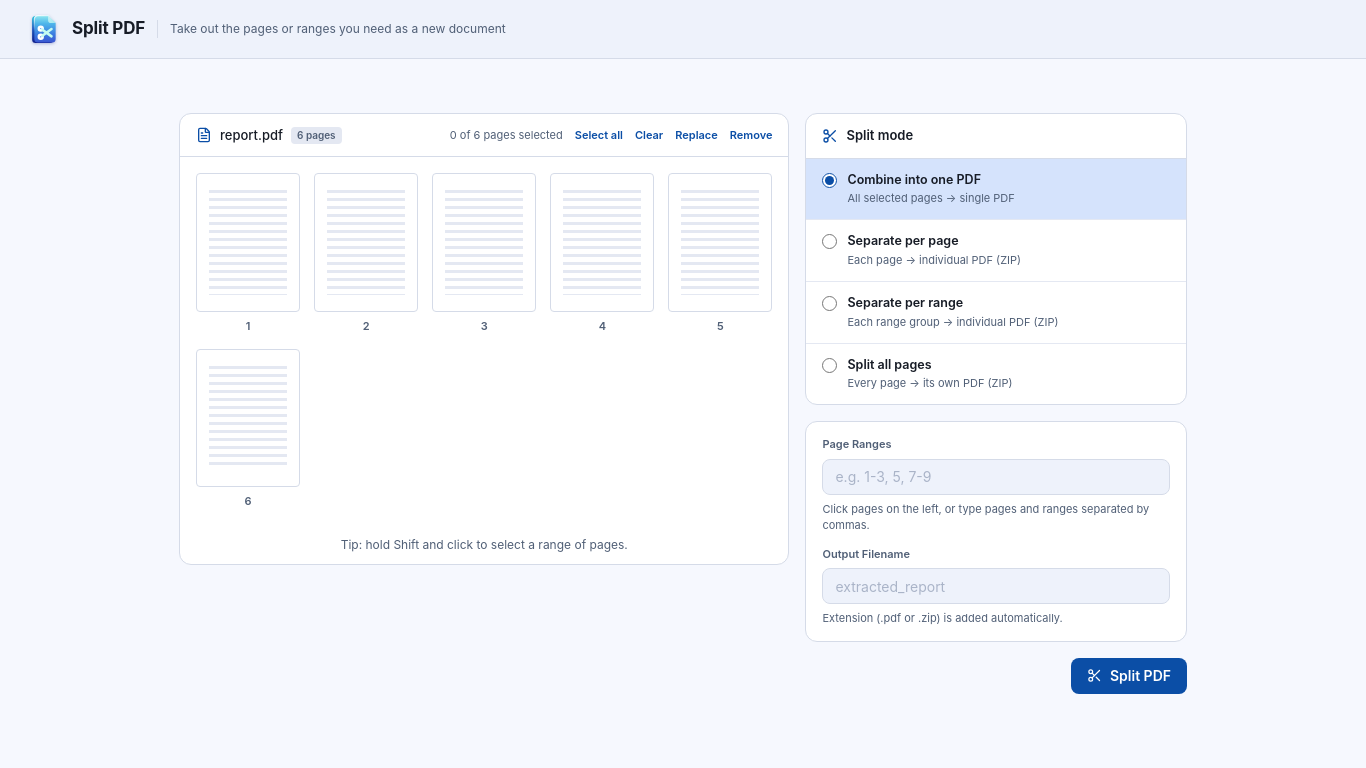
Test: extract page › treats Shift + click as a plain click when nothing was clicked before
The width and height of the screenshot is (1366, 768).
expect the text "6 pages" is shown: met, box 291,127 -> 342,144
Click the button "4" at (602,254), box 550,173 -> 654,335
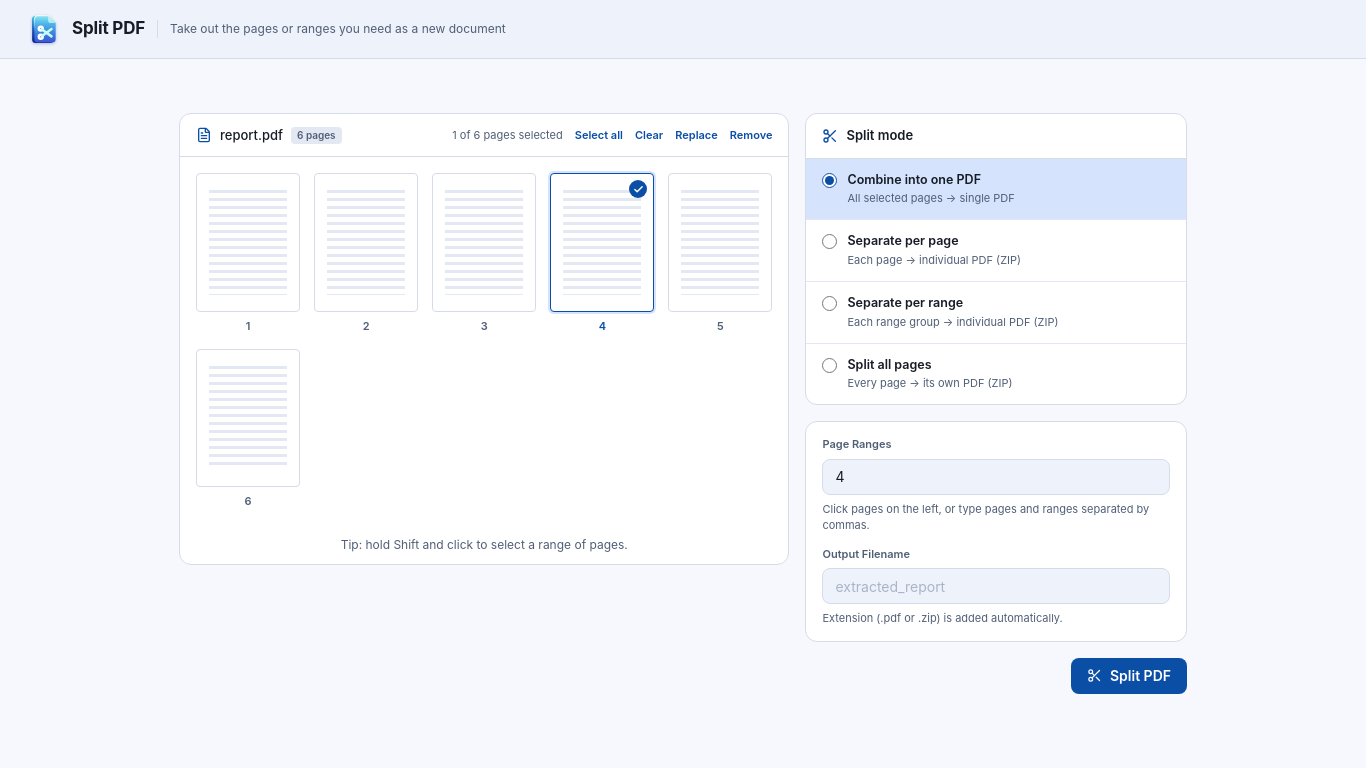
expect the field with id "extract-page-ranges" holds "4": met, box 822,459 -> 1170,495
Click the button "6" at (248,429), box 196,349 -> 300,510
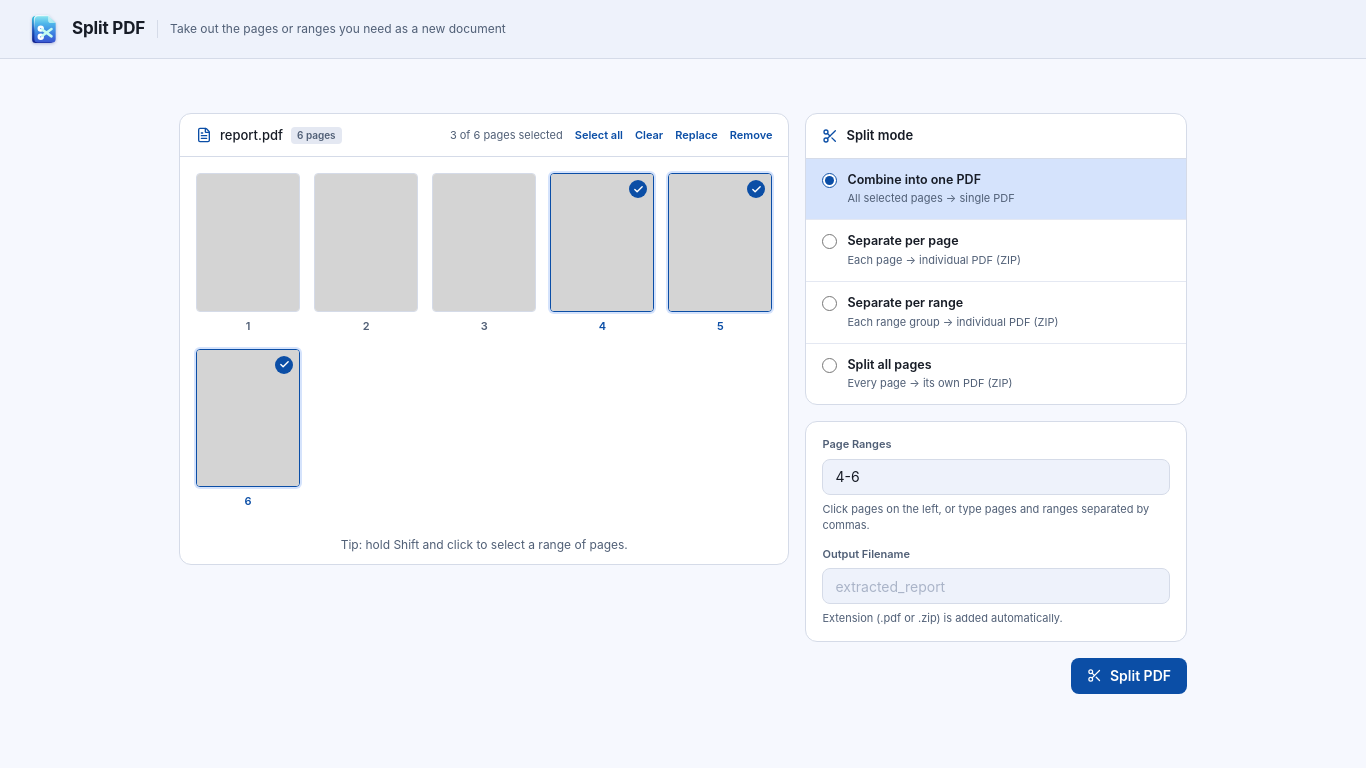
expect the field with id "extract-page-ranges" holds "4-6": met, box 822,459 -> 1170,495
